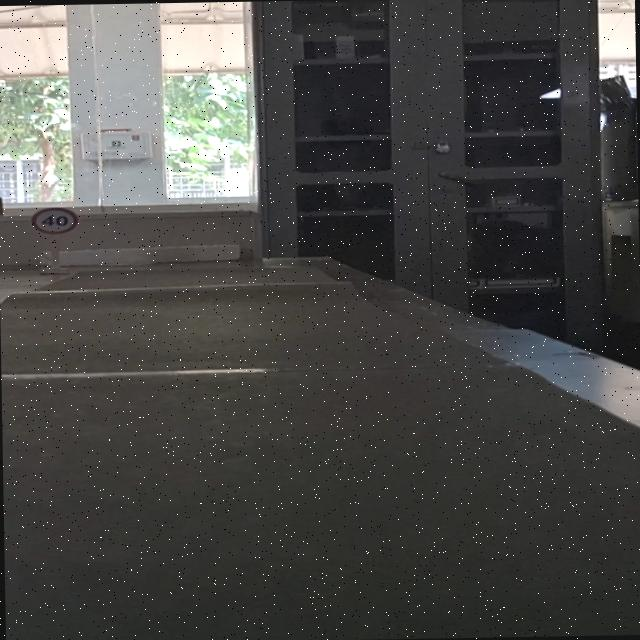Speed40: (30, 206, 79, 234)
